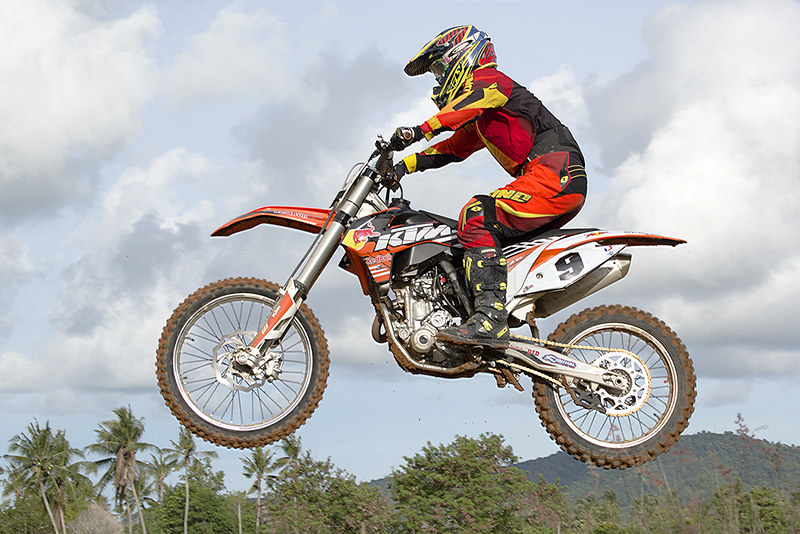helmet: (414, 14, 500, 98)
